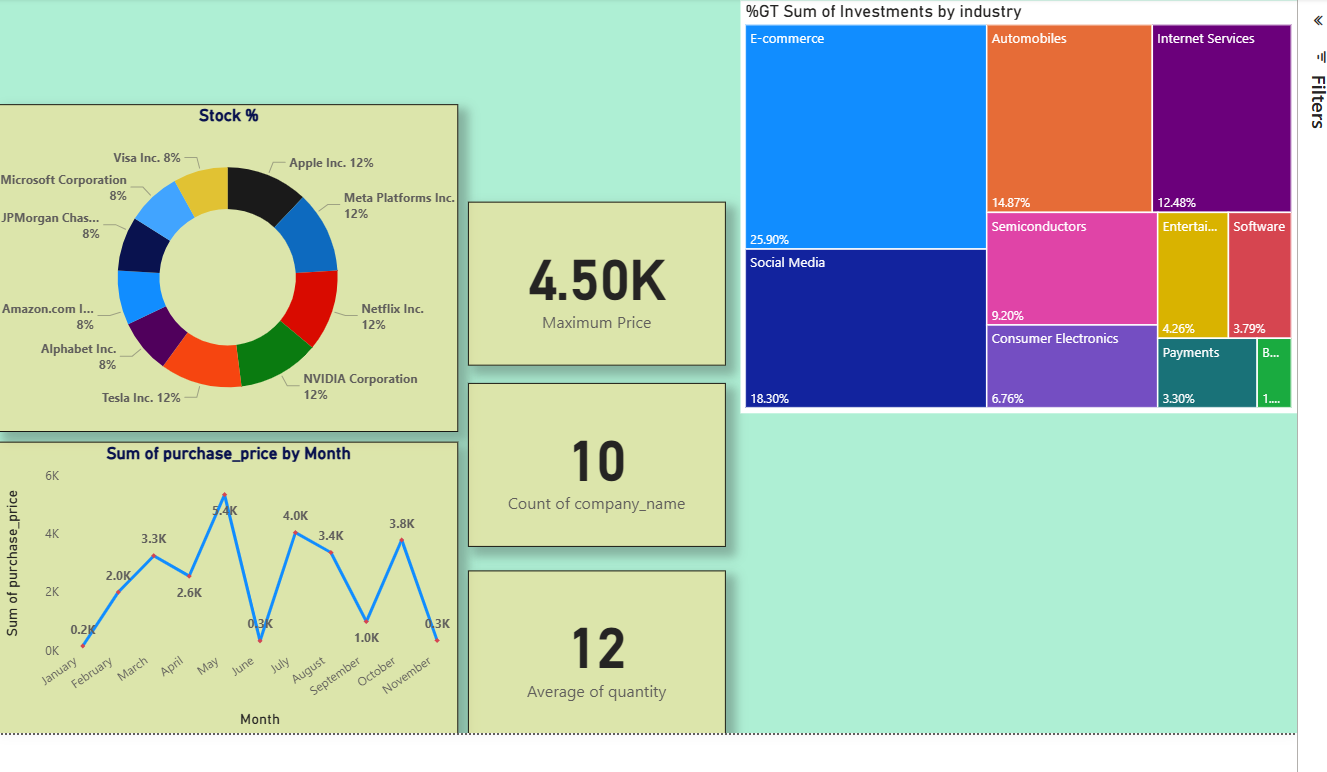

The dashboard page shown, as its layout file describes it:
{"tool":"powerbi","page":{"name":"Page 1","canvas":[1294,733],"ordinal":0},"visuals":[{"type":"donutChart","title":"Stock %","fields":{"Category":["portfoliomanagement stocks.company_name"],"Y":["CountNonNull(portfoliomanagement investments.stock_id)"]},"box":[0,105.5,458.3,326.4],"z":0},{"type":"lineChart","fields":{"Category":["portfoliomanagement investments.purchase_date.Variation.Date Hierarchy.Year","portfoliomanagement investments.purchase_date.Variation.Date Hierarchy.Quarter","portfoliomanagement investments.purchase_date.Variation.Date Hierarchy.Month","portfoliomanagement investments.purchase_date.Variation.Date Hierarchy.Day"],"Y":["Sum(portfoliomanagement investments.purchase_price)"]},"box":[0,442,458,291],"z":1000},{"type":"card","fields":{"Values":["Max(portfoliomanagement investments.purchase_price)"]},"box":[468.2,202.8,257.2,163.2],"z":2000},{"type":"card","fields":{"Values":["CountNonNull(portfoliomanagement stocks.company_name)"]},"box":[468.2,384.1,257.2,163.2],"z":3000},{"type":"card","fields":{"Values":["Avg(portfoliomanagement investments.quantity)"]},"box":[468.2,570.4,257.2,163.2],"z":4000},{"type":"treemap","fields":{"Values":["Sum(portfoliomanagement investments.Investments)"],"Group":["portfoliomanagement stocks.industry"]},"box":[646.2,46.2,647.8,463.2],"z":4001}]}

Visuals, with their boxes on the page's 1294x733 design canvas (x1, y1, x2, y2). These are canvas units, not pixel positions in the 1327x772 screenshot, which may show the page scaled, cropped or inside an application window:
"Stock %" donutChart: Rect(0, 106, 458, 432)
lineChart - portfoliomanagement investments.purchase_date.Variation.Date Hierarchy.Year x portfoliomanagement investments.purchase_date.Variation.Date Hierarchy.Quarter: Rect(0, 442, 458, 733)
card - Max(portfoliomanagement investments.purchase_price): Rect(468, 203, 725, 366)
card - CountNonNull(portfoliomanagement stocks.company_name): Rect(468, 384, 725, 547)
card - Avg(portfoliomanagement investments.quantity): Rect(468, 570, 725, 734)
treemap - Sum(portfoliomanagement investments.Investments) x portfoliomanagement stocks.industry: Rect(646, 46, 1294, 509)
